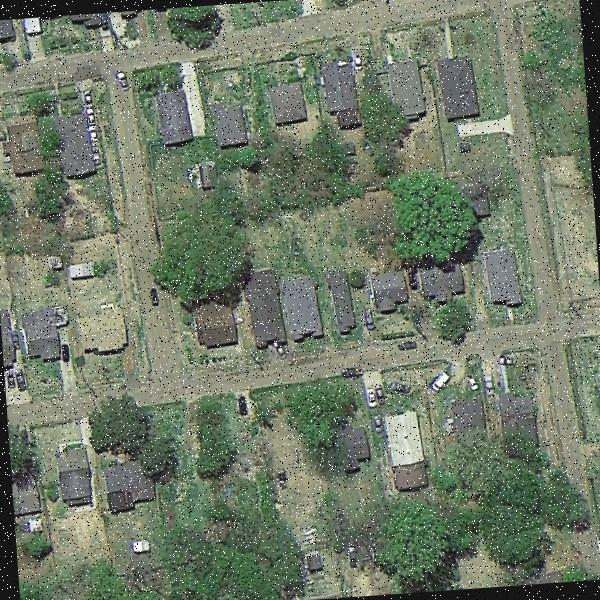Buildings: (146, 84, 196, 148), (436, 53, 482, 122), (104, 459, 153, 515), (383, 420, 426, 481), (481, 252, 523, 307), (497, 392, 540, 442), (252, 272, 282, 340), (324, 63, 358, 119), (287, 278, 316, 342), (326, 268, 358, 324), (57, 118, 92, 169), (59, 451, 93, 503), (206, 105, 253, 141), (22, 316, 58, 363), (3, 119, 38, 166), (374, 267, 415, 307), (386, 72, 419, 120), (195, 308, 235, 346), (330, 435, 378, 466), (84, 314, 124, 351), (264, 88, 304, 119), (420, 275, 460, 305)
